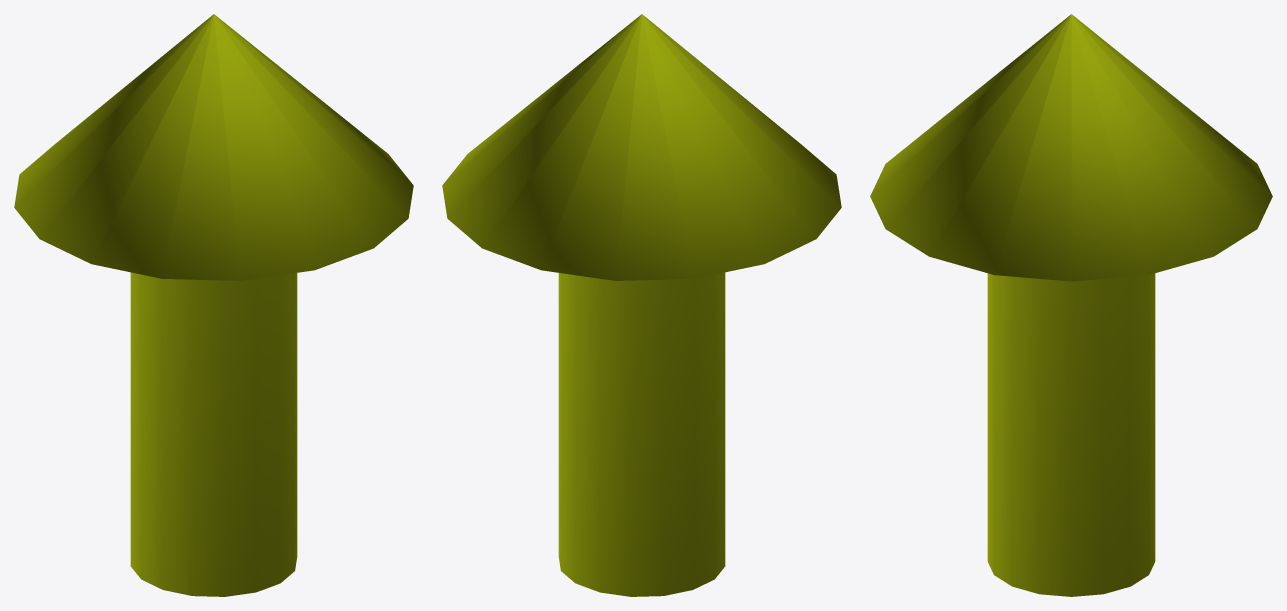
The model's file is arrow.obj.
3 views of the same model, side by side, from view 1: azimuth 30°, elevation 25°; view 2: azimuth 150°, elevation 25°; view 3: azimuth 270°, elevation 25° (orthographic).
Parts seen in each view (by area): view 1: BezierCurve_Mesh; view 2: BezierCurve_Mesh; view 3: BezierCurve_Mesh.
Part boxes in pixels (x1,y1,x2,y2): BezierCurve_Mesh: (14, 14, 413, 596); BezierCurve_Mesh: (442, 14, 841, 596); BezierCurve_Mesh: (870, 14, 1272, 596).
Bounding box in the file's own units: 1.2 × 1.8 × 1.2.
